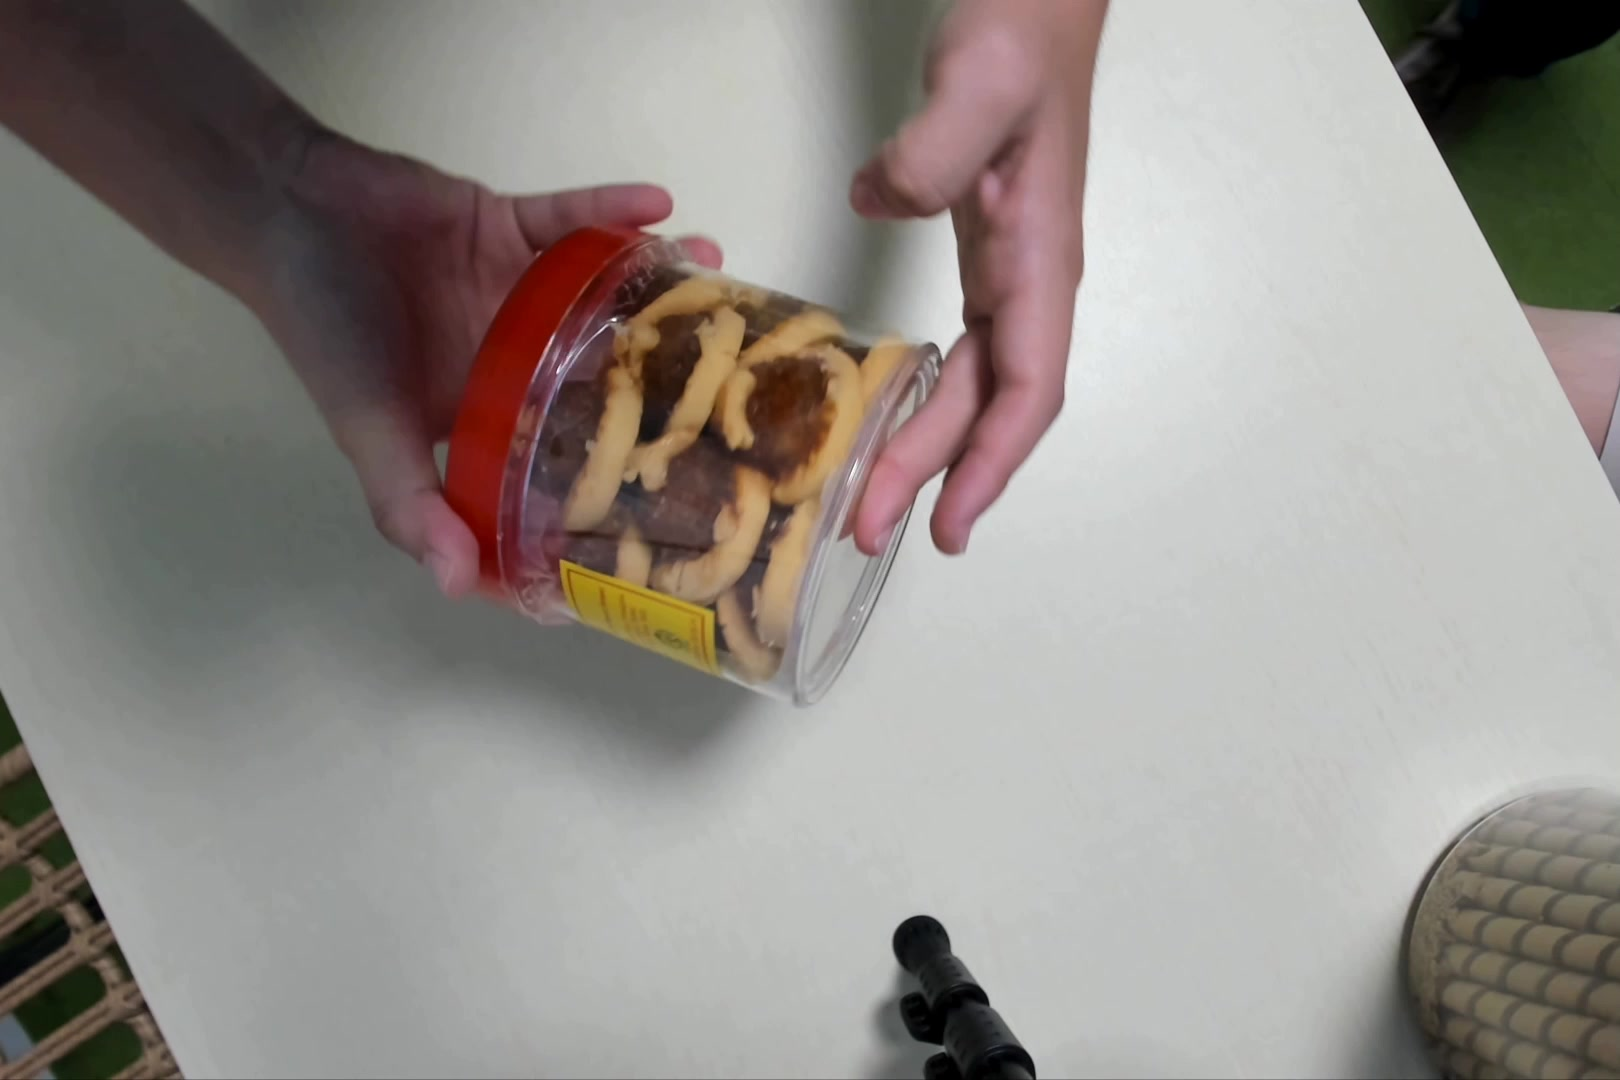BiscuitsCrackersCookies_400-499g_Halal_NonHealthy: (436, 227, 947, 705)
